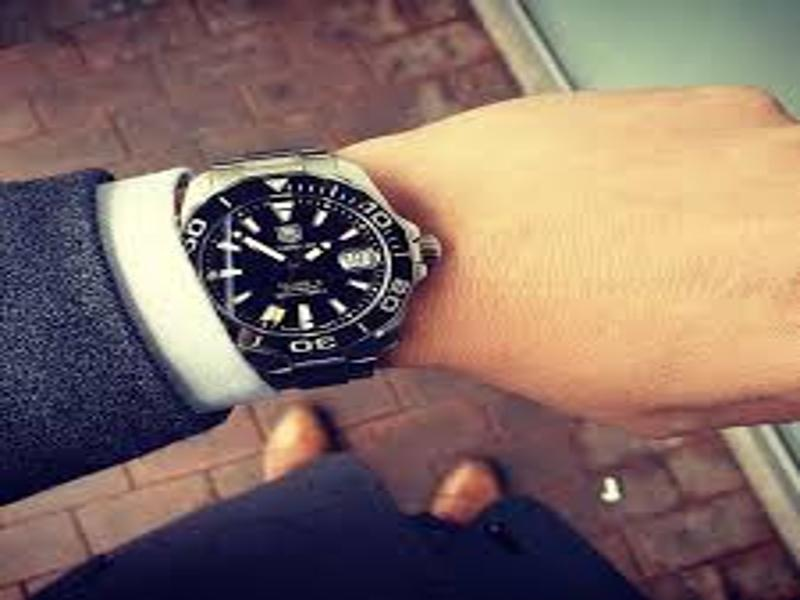watch: (173, 144, 445, 392)
